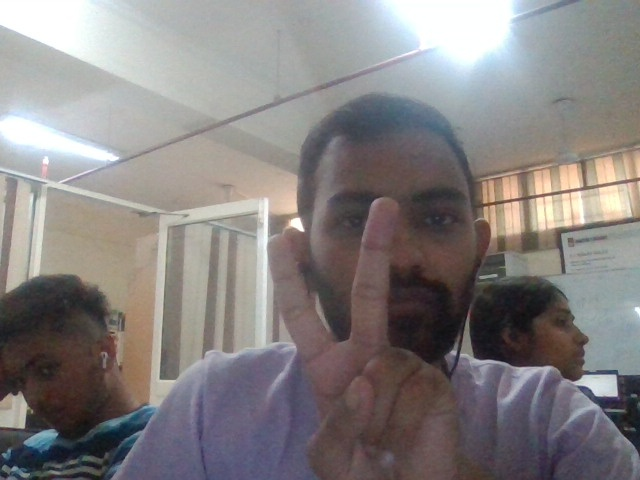ThankYou: (265, 196, 466, 480)
